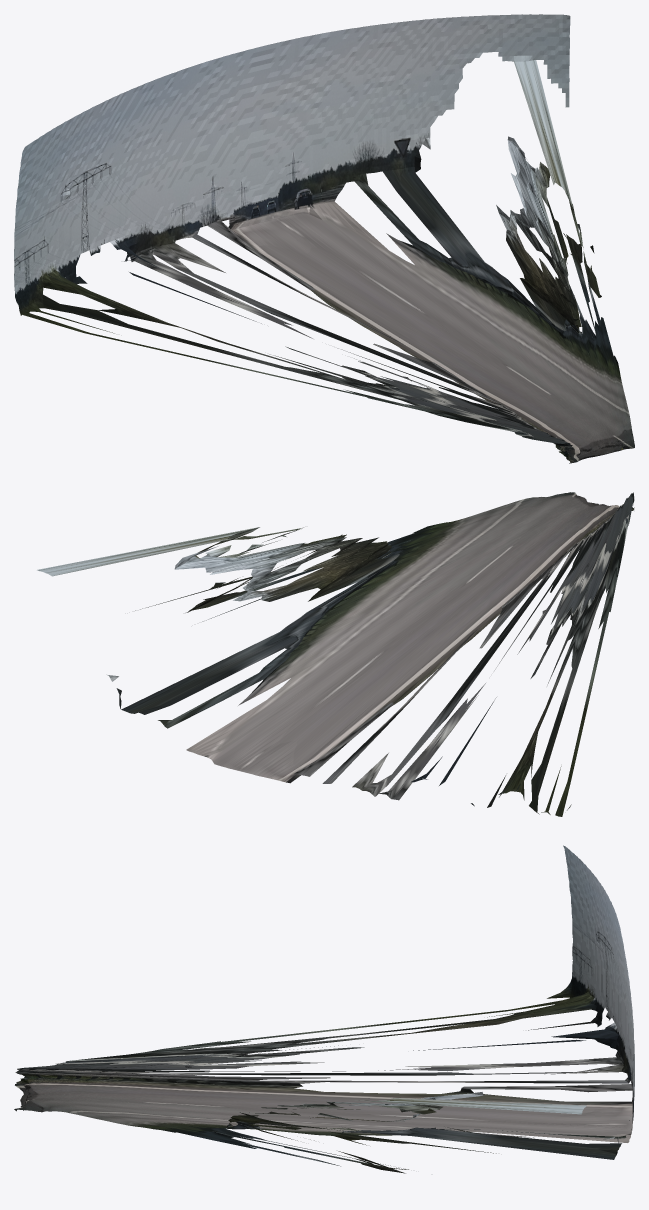
3 renders of one model, top to bottom at view 1: azimuth 30°, elevation 25°; view 2: azimuth 150°, elevation 25°; view 3: azimuth 270°, elevation 25°, orthographic. The views are drawn at different scales.
Visible parts, largest first — view 1: defaultobject; view 2: defaultobject; view 3: defaultobject.
Part boxes in pixels (x1,y1,x2,y2): defaultobject: (14,14,634,463); defaultobject: (37,492,634,816); defaultobject: (14,845,634,1173).
Size of the model in its own units: 41.12 by 13.01 by 44.68.
1 material, 1 textured.
